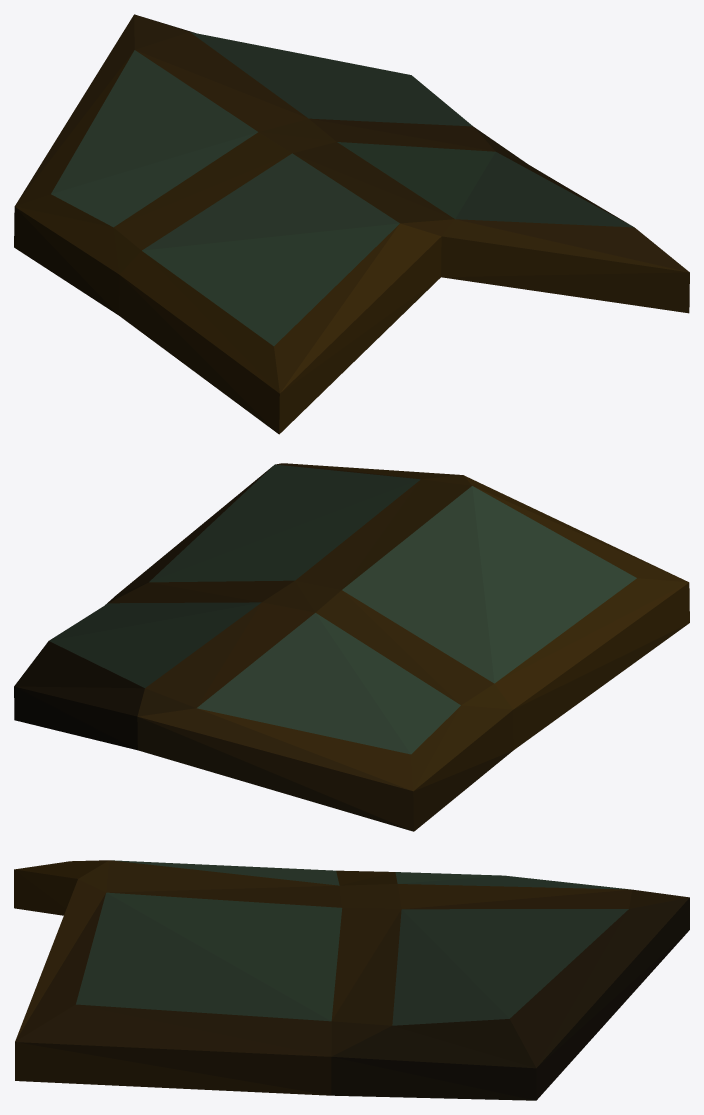
The model's file is adamant-kiteshield.obj.
3 views of the same model, one above another, from view 1: azimuth 30°, elevation 25°; view 2: azimuth 150°, elevation 25°; view 3: azimuth 270°, elevation 25° (orthographic). The views are drawn at different scales.
Parts seen in each view (by area): view 1: Item Adamant kiteshield 2026-09-24_18-15-58; view 2: Item Adamant kiteshield 2026-09-24_18-15-58; view 3: Item Adamant kiteshield 2026-09-24_18-15-58.
Part boxes in pixels (bbox=[...]): Item Adamant kiteshield 2026-09-24_18-15-58: bbox=[14, 14, 689, 434]; Item Adamant kiteshield 2026-09-24_18-15-58: bbox=[14, 463, 689, 831]; Item Adamant kiteshield 2026-09-24_18-15-58: bbox=[14, 860, 689, 1100].
Bounding box in the file's own units: 63.84 × 21.62 × 93.81.
